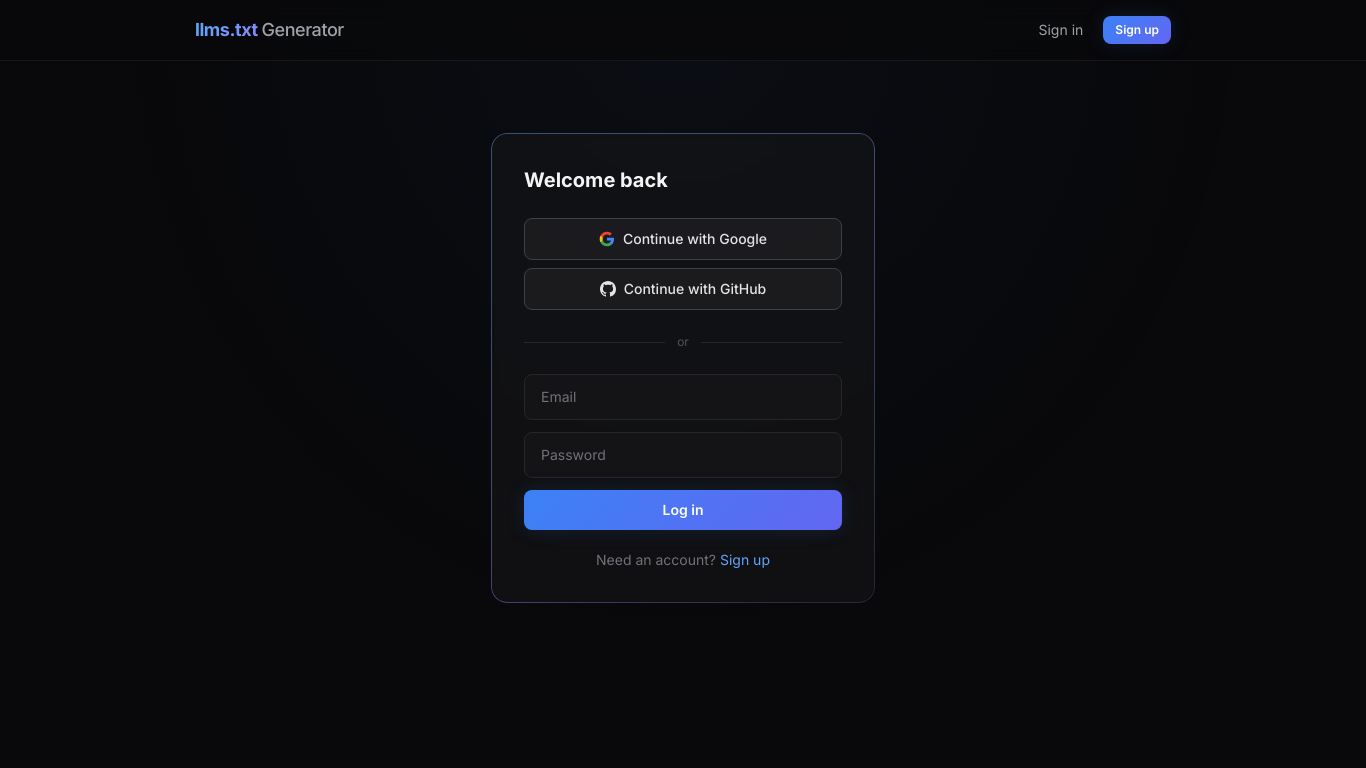
Test: LoginPage › toggles between login and signup
The width and height of the screenshot is (1366, 768).
expect the heading "Welcome back" is shown: met, box [524,168,668,192]
Click the button "Sign up": (745, 560) [720,550,770,570]
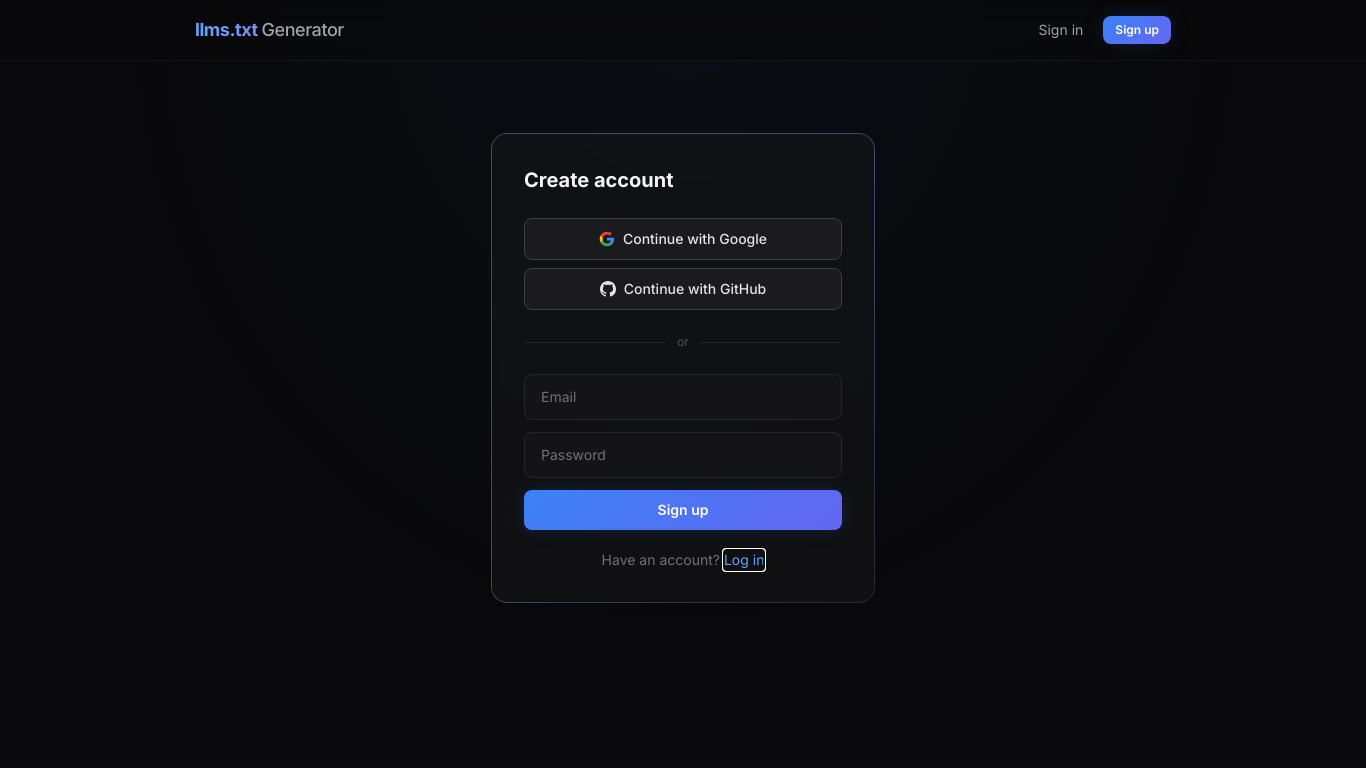
expect the heading "Create account" is shown: met, box [524,168,674,192]
